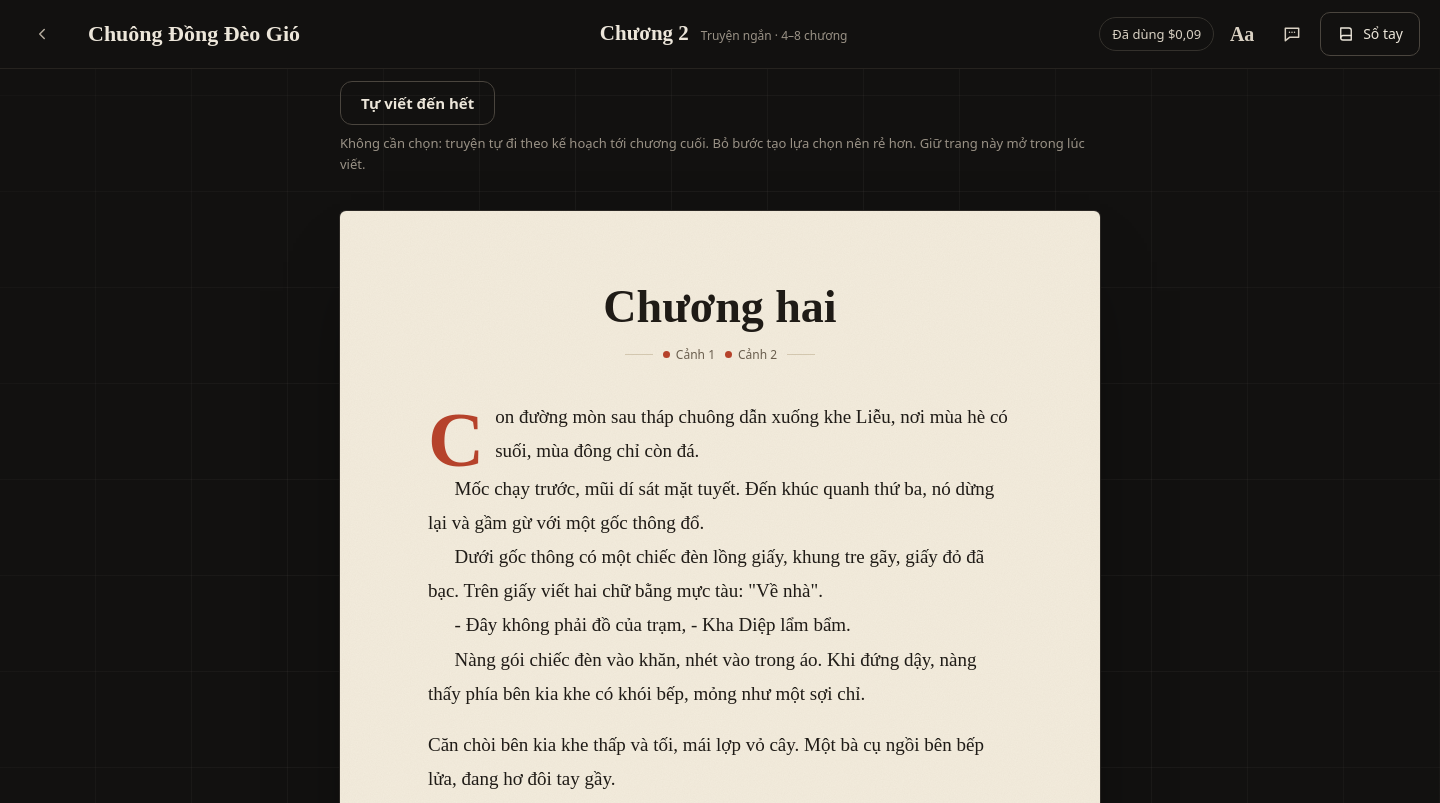
Test: tự viết đến hết › bấm nút: gọi chapters/next?auto=true từng chương, không cần chọn, tới story_finished thì hiện màn kết
Click the button "Tự viết đến hết" at point(418, 103), box [340,81,495,125]
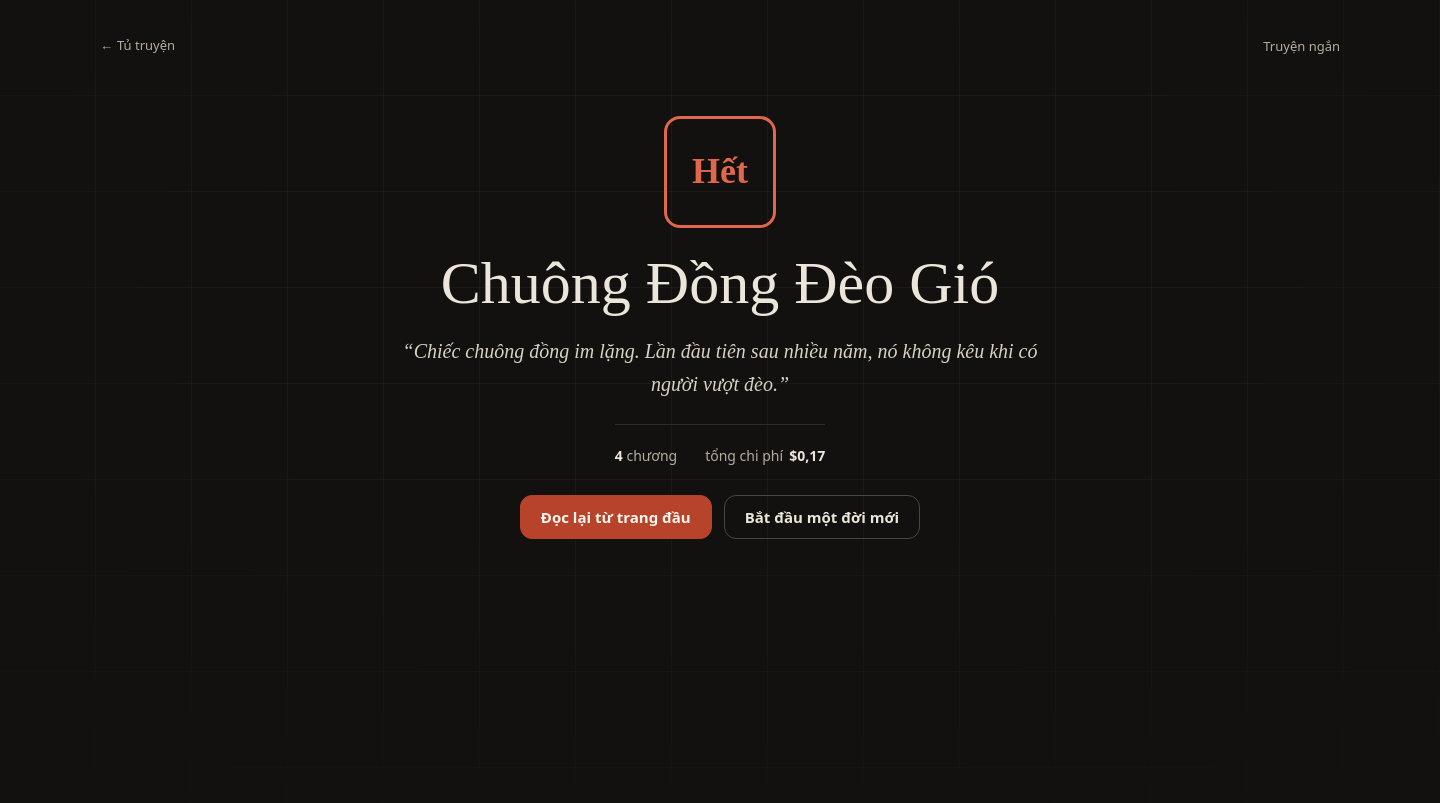
Expected: the link "Đọc lại từ trang đầu" is shown, [520,495,712,539]
